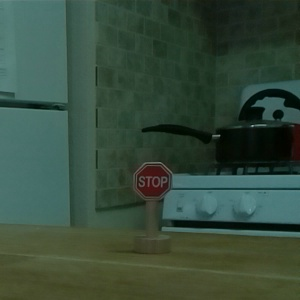stop sign: (131, 160, 174, 255)
